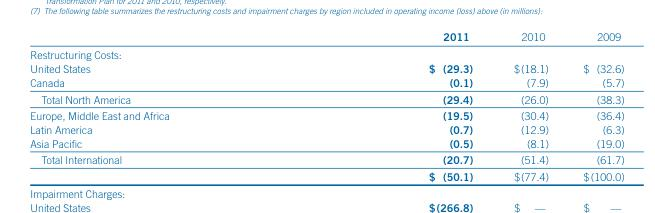table: (29, 29, 623, 182)
table column: (29, 29, 298, 182), (298, 29, 492, 182), (492, 29, 565, 182), (565, 29, 623, 182)
table column header: (29, 29, 623, 45)
table projected row header: (29, 45, 623, 61)
table row: (29, 150, 623, 167), (29, 29, 623, 45), (29, 45, 623, 61), (29, 90, 623, 106), (29, 75, 623, 90), (29, 106, 623, 121), (29, 135, 623, 150), (29, 167, 623, 182), (29, 61, 623, 75), (29, 121, 623, 135)
